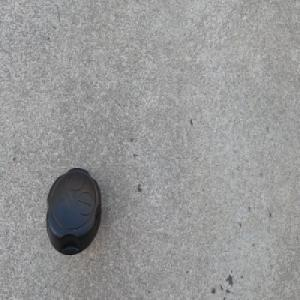FuelCap: (44, 166, 102, 257)
